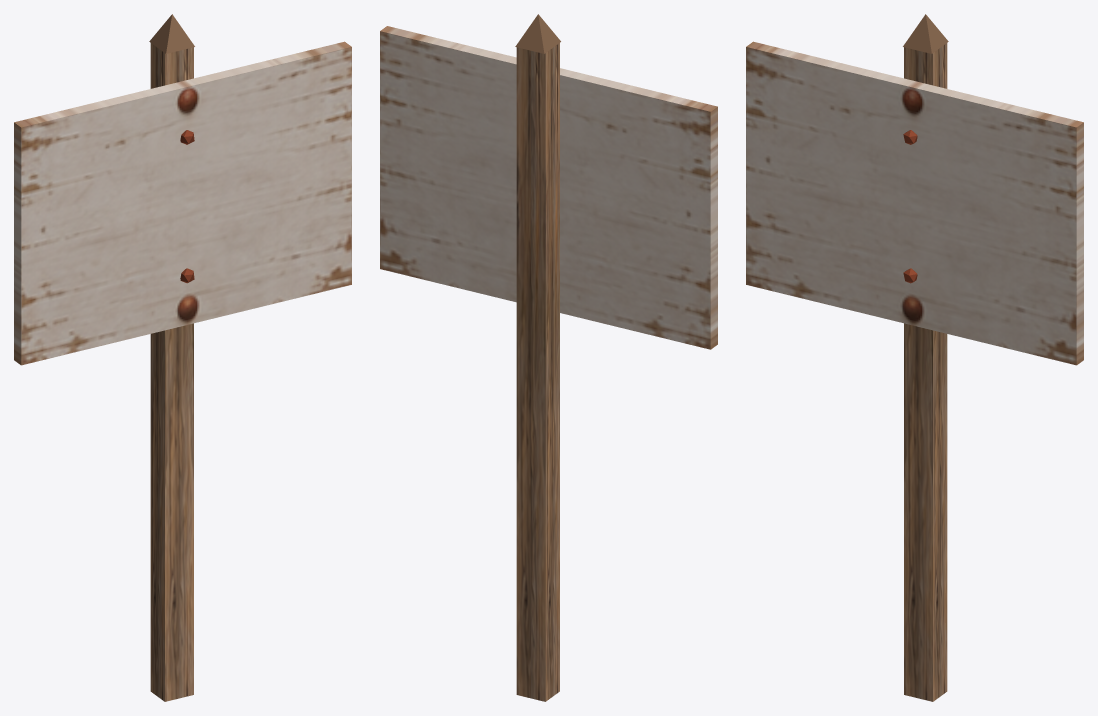
The picture shows the model from 3 angles, left to right: view 1: azimuth 30°, elevation 25°; view 2: azimuth 150°, elevation 25°; view 3: azimuth 330°, elevation 25°; orthographic projection.
Parts seen in each view (by area): view 1: RouteSign; view 2: RouteSign; view 3: RouteSign.
Boxes of the visible parts, x1,y1,x2,y2 form: RouteSign: (14, 14, 351, 701); RouteSign: (380, 14, 717, 701); RouteSign: (746, 14, 1083, 701).
Bounding box in the file's own units: 1.6 × 3.14 × 0.2255.
Materials: 3 (2 with a texture image).
